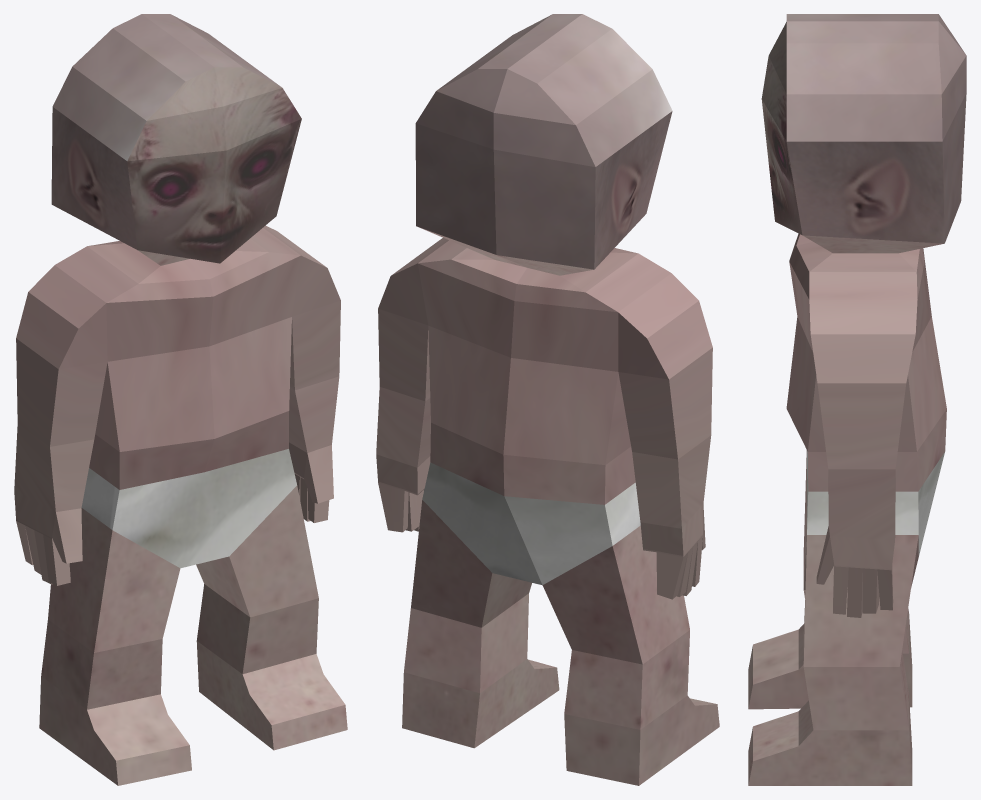
The model's file is CHAR_Tuyul [NO RIG].fbx.
3 renders of one model, left to right at view 1: azimuth 30°, elevation 25°; view 2: azimuth 150°, elevation 25°; view 3: azimuth 270°, elevation 25°, orthographic. The views are drawn at different scales.
Parts seen in each view (by area): view 1: Tuyul; view 2: Tuyul; view 3: Tuyul.
Part boxes in pixels (x1=…): Tuyul: x1=14, y1=14, x2=347, y2=785; Tuyul: x1=376, y1=14, x2=719, y2=785; Tuyul: x1=748, y1=14, x2=966, y2=785.
Bounding box in the file's own units: 261 × 572 × 160.
